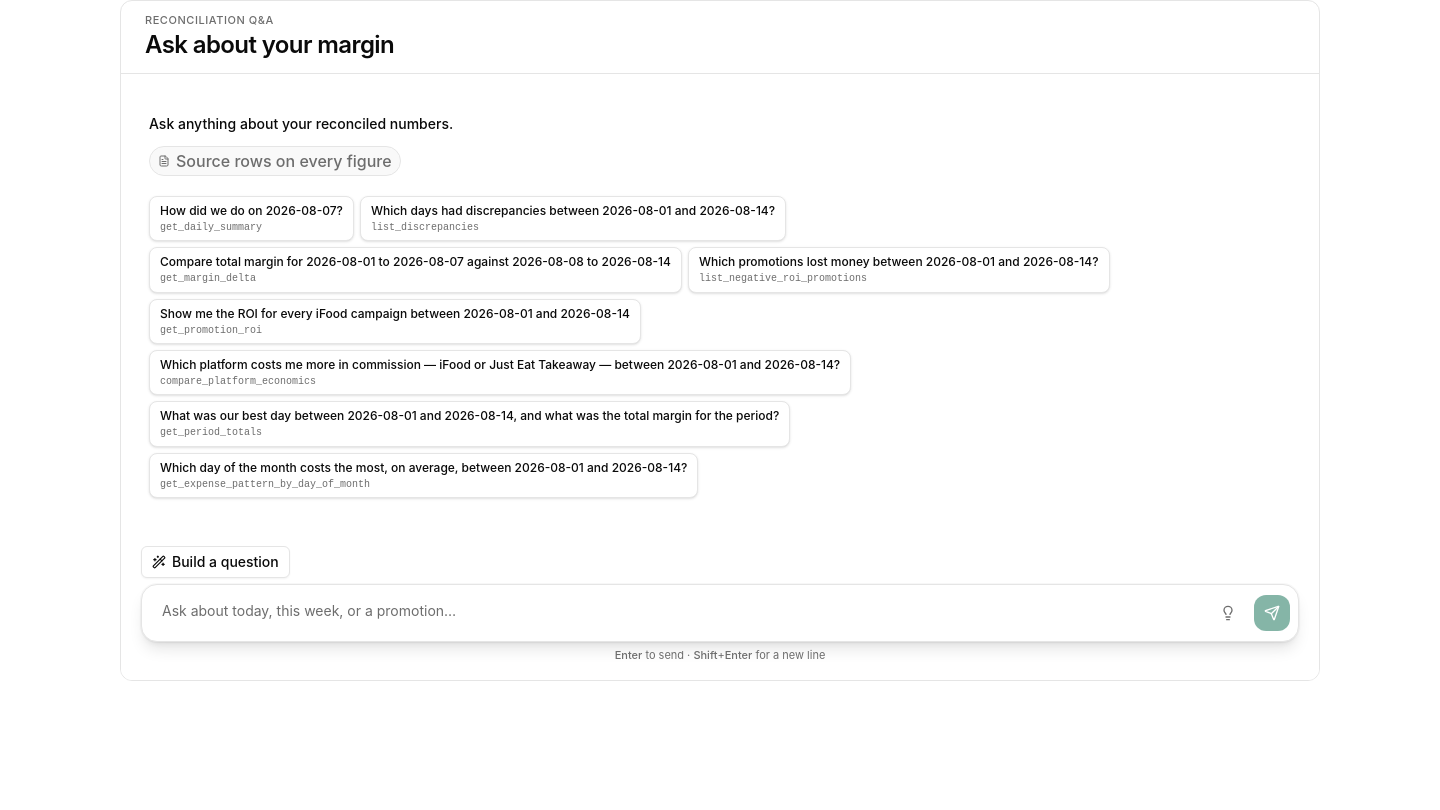
Test: ChatPanel › renders an answer’s backend-chosen visualization inline in its bubble
Type "Which days had discrepancies?" into the text box named "ask a question about your margin" at (676, 613), box [150,593,1202,633]
Then press Enter
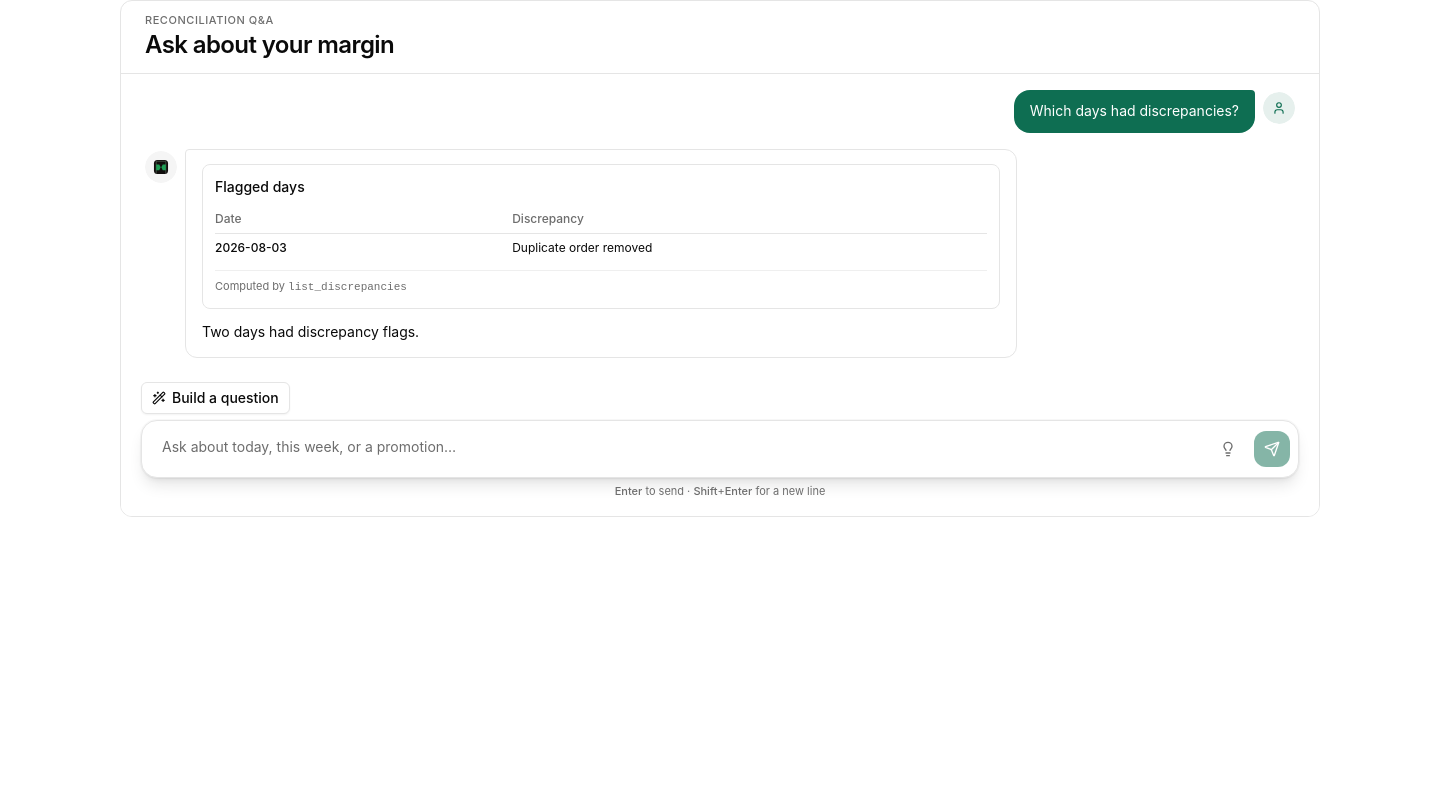
Expected: the list item "Two days had discrepancy flags." is shown, [202,323,419,340]
Expected: the table is shown, [215,205,987,262]
Expected: the text "Duplicate order removed" is shown, [512,234,987,262]
